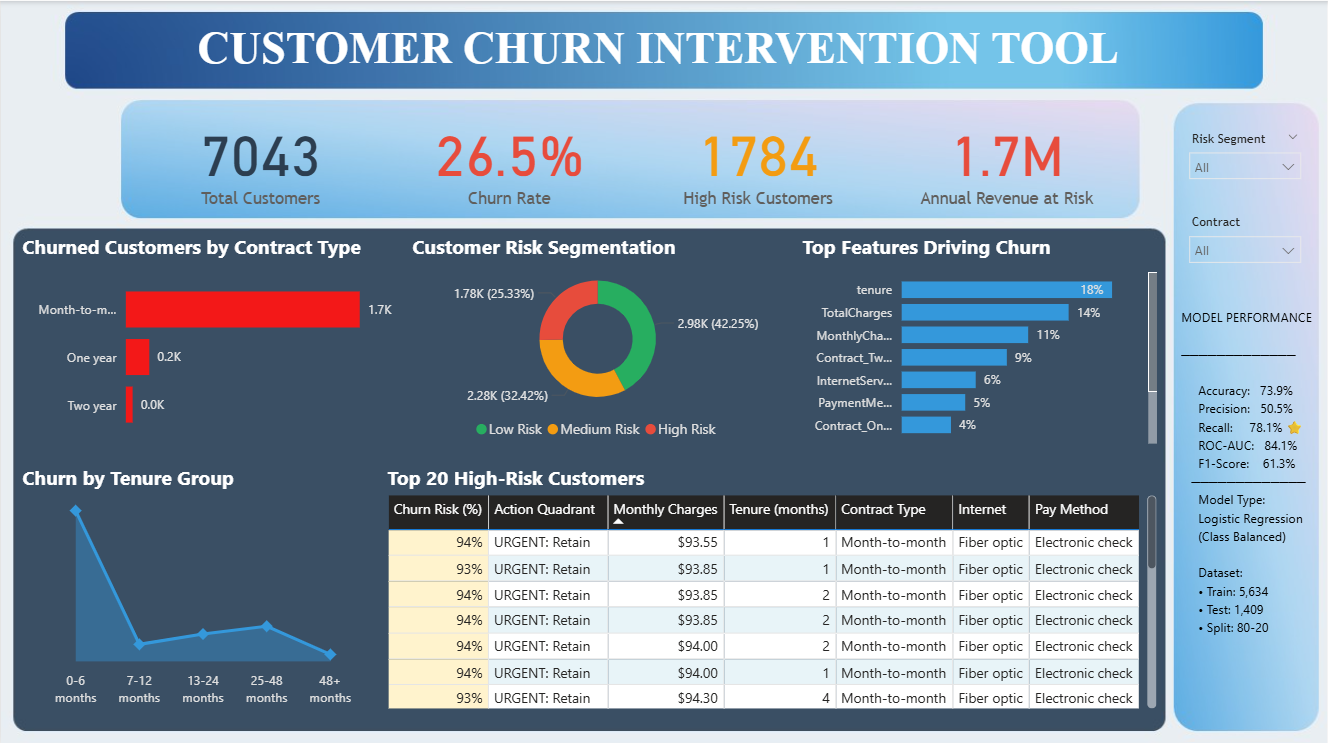

The dashboard page shown, as its layout file describes it:
{"tool":"powerbi","page":{"name":"Page 1","canvas":[1280,720],"ordinal":0},"visuals":[{"type":"textbox","box":[184,16,912,64],"z":1000},{"type":"card","fields":{"Values":["Measures Table.Total Rows"]},"box":[139.1,97,224,112],"z":2000},{"type":"card","fields":{"Values":["Measures Table.Churn Rate"]},"box":[379.1,97,224,112],"z":3000},{"type":"card","fields":{"Values":["Measures Table.High Risk Count"]},"box":[619.1,97,224,112],"z":4000},{"type":"card","fields":{"Values":["Measures Table.Revenue at Risk"]},"box":[859.1,97,224,112],"z":5000},{"type":"clusteredBarChart","title":"Churned Customers by Contract Type","fields":{"Category":["churn_predictions.Contract"],"Y":["CountNonNull(churn_predictions.Churn)"]},"box":[16,224,368,208],"z":6000},{"type":"donutChart","title":"Customer Risk Segmentation","fields":{"Category":["churn_predictions.Risk_Segment"],"Y":["CountNonNull(churn_predictions.Churn)"]},"box":[392,224,368,208],"z":7000},{"type":"clusteredBarChart","title":"Top Features Driving Churn","fields":{"Category":["feature_importance.Feature"],"Y":["Sum(feature_importance.Importance)"]},"box":[768,224,352,208],"z":8000},{"type":"tableEx","title":"Top 20 High-Risk Customers","fields":{"Values":["churn_predictions.Churn_Probability","churn_predictions.Action_Quadrant","Sum(churn_predictions.MonthlyCharges)","Sum(churn_predictions.tenure)","churn_predictions.Contract","churn_predictions.InternetService","churn_predictions.PaymentMethod"]},"box":[368,448,752,240],"z":9000},{"type":"slicer","fields":{"Values":["churn_predictions.Contract"]},"box":[1136.7,200.9,128,64],"z":10000},{"type":"slicer","fields":{"Values":["churn_predictions.Risk_Segment"]},"box":[1136.7,120.9,128,64],"z":11000},{"type":"areaChart","title":"Churn by Tenure Group","fields":{"Y":["CountNonNull(churn_predictions.Churn)"],"Category":["churn_predictions.Tenure_Group"]},"box":[16,448,336,240],"z":12000},{"type":"textbox","box":[1134,291,144,368],"z":13000}]}

Visuals, with their boxes in screenshot pixels (x1, y1, x2, y2), scaled from the page's 1280x720 canvas onto the 1328x743 screenshot:
textbox: {"left": 191, "top": 17, "right": 1137, "bottom": 83}
card - Measures Table.Total Rows: {"left": 144, "top": 100, "right": 377, "bottom": 216}
card - Measures Table.Churn Rate: {"left": 393, "top": 100, "right": 626, "bottom": 216}
card - Measures Table.High Risk Count: {"left": 642, "top": 100, "right": 875, "bottom": 216}
card - Measures Table.Revenue at Risk: {"left": 891, "top": 100, "right": 1124, "bottom": 216}
"Churned Customers by Contract Type" clusteredBarChart: {"left": 17, "top": 231, "right": 398, "bottom": 446}
"Customer Risk Segmentation" donutChart: {"left": 407, "top": 231, "right": 789, "bottom": 446}
"Top Features Driving Churn" clusteredBarChart: {"left": 797, "top": 231, "right": 1162, "bottom": 446}
"Top 20 High-Risk Customers" tableEx: {"left": 382, "top": 462, "right": 1162, "bottom": 710}
slicer - churn_predictions.Contract: {"left": 1179, "top": 207, "right": 1312, "bottom": 273}
slicer - churn_predictions.Risk_Segment: {"left": 1179, "top": 125, "right": 1312, "bottom": 191}
"Churn by Tenure Group" areaChart: {"left": 17, "top": 462, "right": 365, "bottom": 710}
textbox: {"left": 1177, "top": 300, "right": 1326, "bottom": 680}
